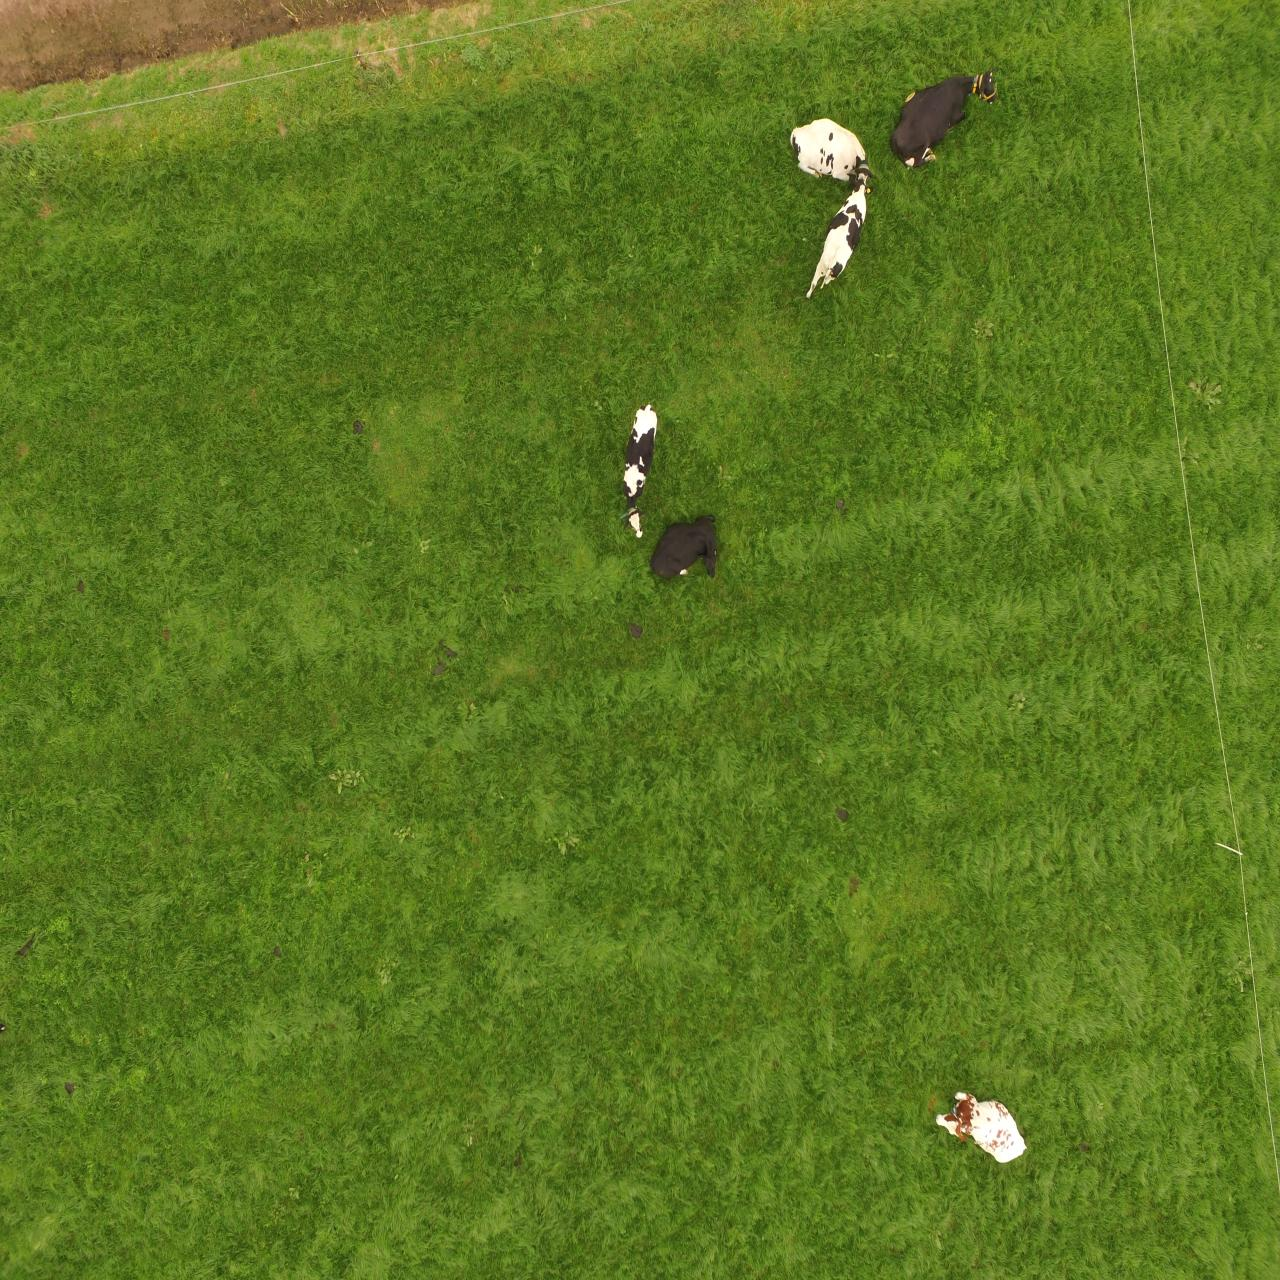cow: (888, 57, 1002, 178), (933, 1088, 1032, 1176), (815, 166, 873, 304), (649, 501, 729, 594), (620, 399, 663, 556), (790, 116, 865, 179)
